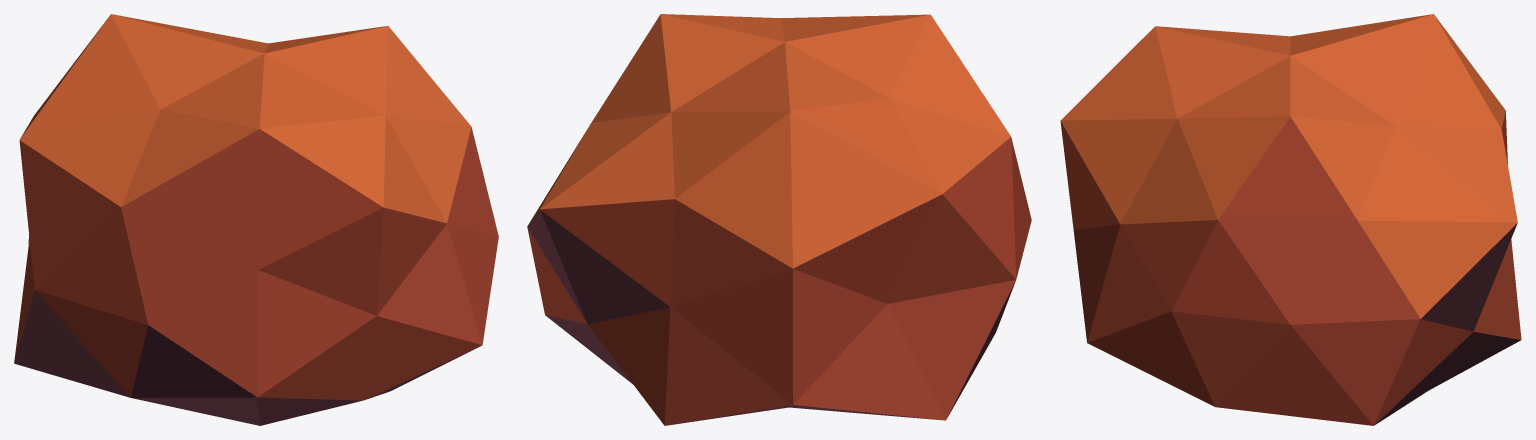
The model's file is Rock_Boulder_A.fbx.
The picture shows the model from 3 angles, left to right: view 1: azimuth 30°, elevation 25°; view 2: azimuth 150°, elevation 25°; view 3: azimuth 270°, elevation 25°; orthographic projection. The views are drawn at different scales.
Parts seen in each view (by area): view 1: Rock_Boulder_A; view 2: Rock_Boulder_A; view 3: Rock_Boulder_A.
Boxes of the visible parts, bbox=[...] form: Rock_Boulder_A: bbox=[14, 14, 498, 425]; Rock_Boulder_A: bbox=[527, 14, 1031, 425]; Rock_Boulder_A: bbox=[1060, 14, 1521, 425].
Size of the model in its own units: 1.07 by 0.7441 by 1.03.
